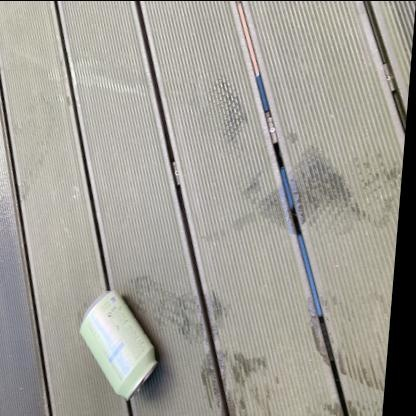trash: (80, 291, 156, 399)
